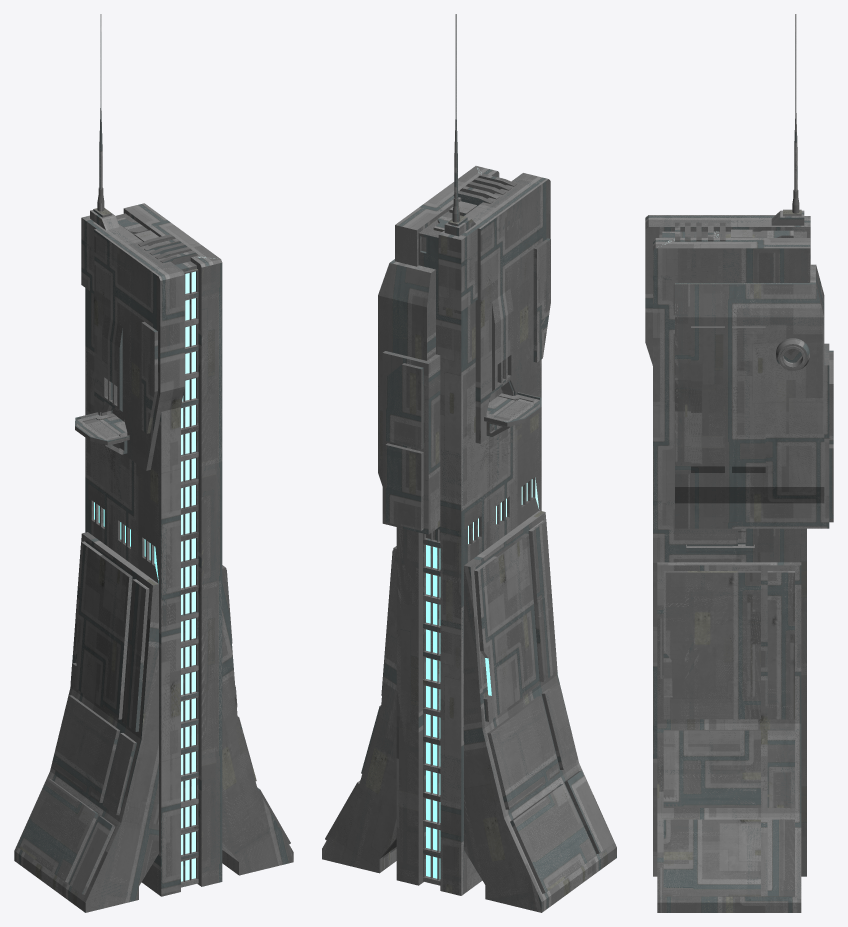
The model's file is Building8.fbx.
3 renders of one model, left to right at view 1: azimuth 30°, elevation 25°; view 2: azimuth 150°, elevation 25°; view 3: azimuth 270°, elevation 25°, orthographic. The views are drawn at different scales.
Parts seen in each view (by area): view 1: Building_vi_6; view 2: Building_vi_6; view 3: Building_vi_6.
Part boxes in pixels (x1,y1,x2,y2): Building_vi_6: (14,14,293,912); Building_vi_6: (322,14,616,912); Building_vi_6: (645,14,833,912).
Bounding box in the file's own units: 26.1 × 98.79 × 20.13.
Materials: 2 (1 with a texture image).
